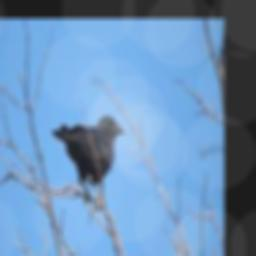Crow: (53, 114, 126, 203)
